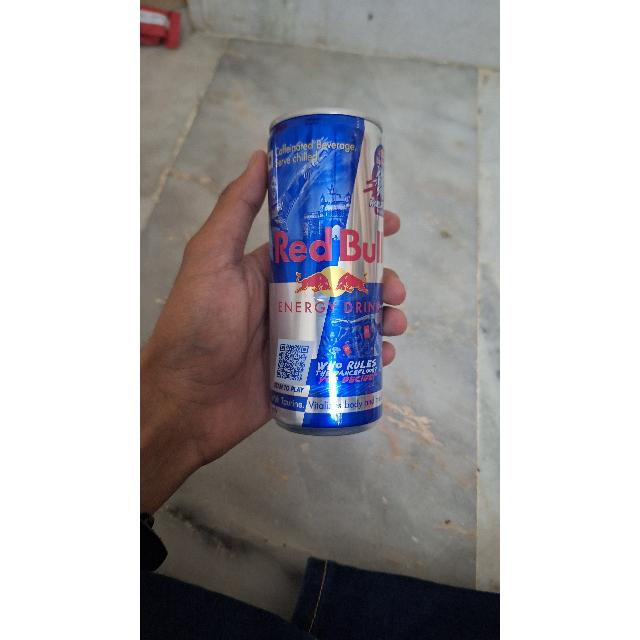Redbull DanceYourStyle: (263, 114, 389, 426)
